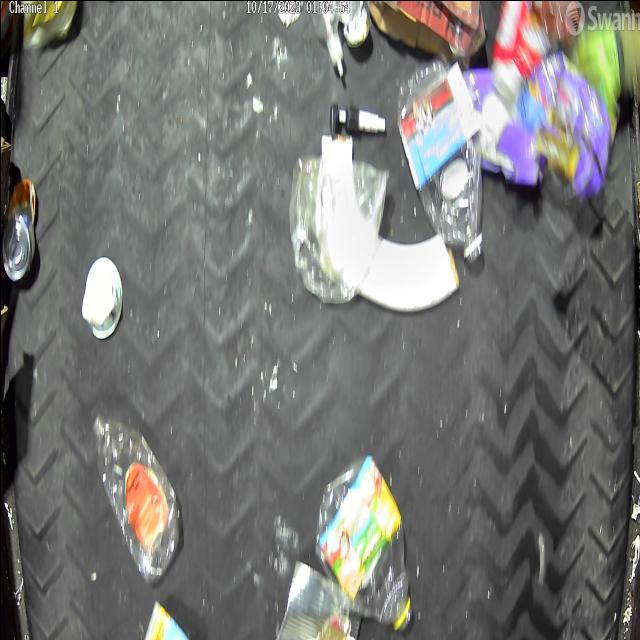can: (274, 558, 354, 640), (1, 176, 37, 278)
plastic_bottle: (394, 59, 484, 264), (317, 453, 415, 637), (93, 406, 181, 576)
